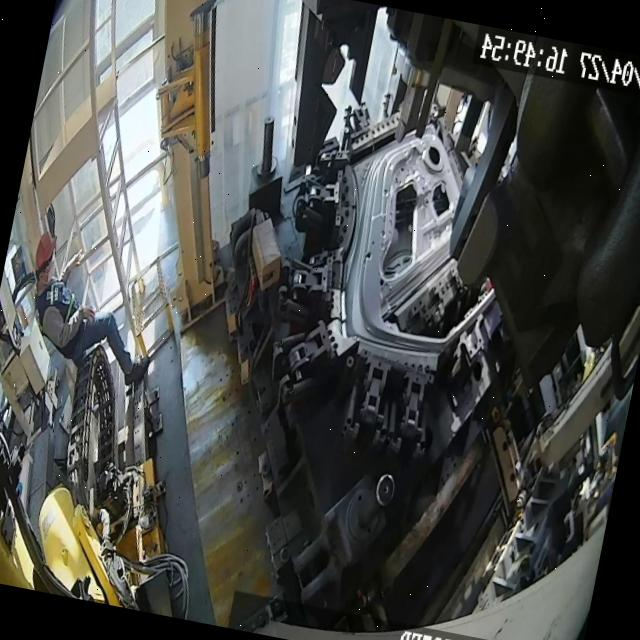Person: (15, 230, 172, 390)
